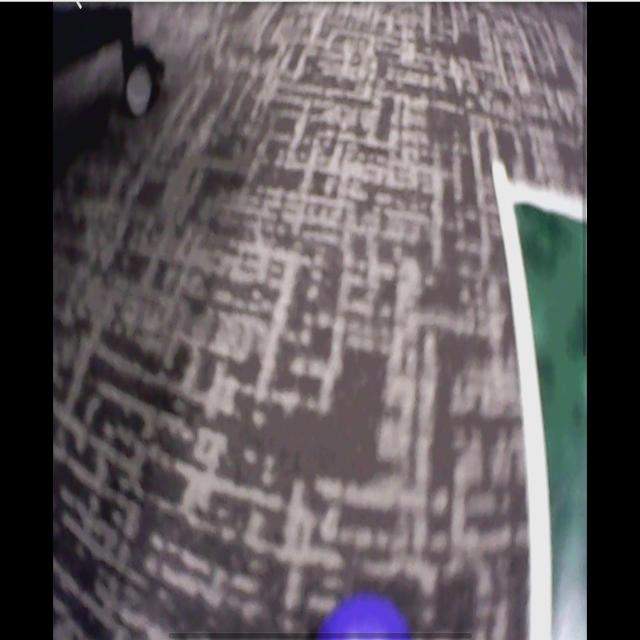ball: (317, 590, 412, 640)
